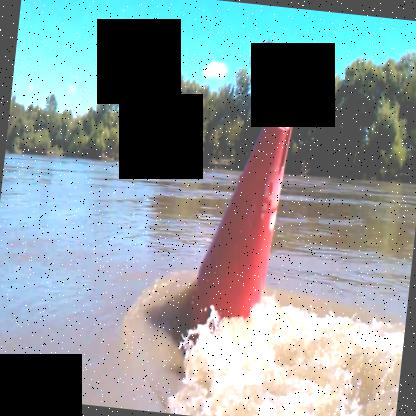Buoy: (175, 61, 312, 342)
